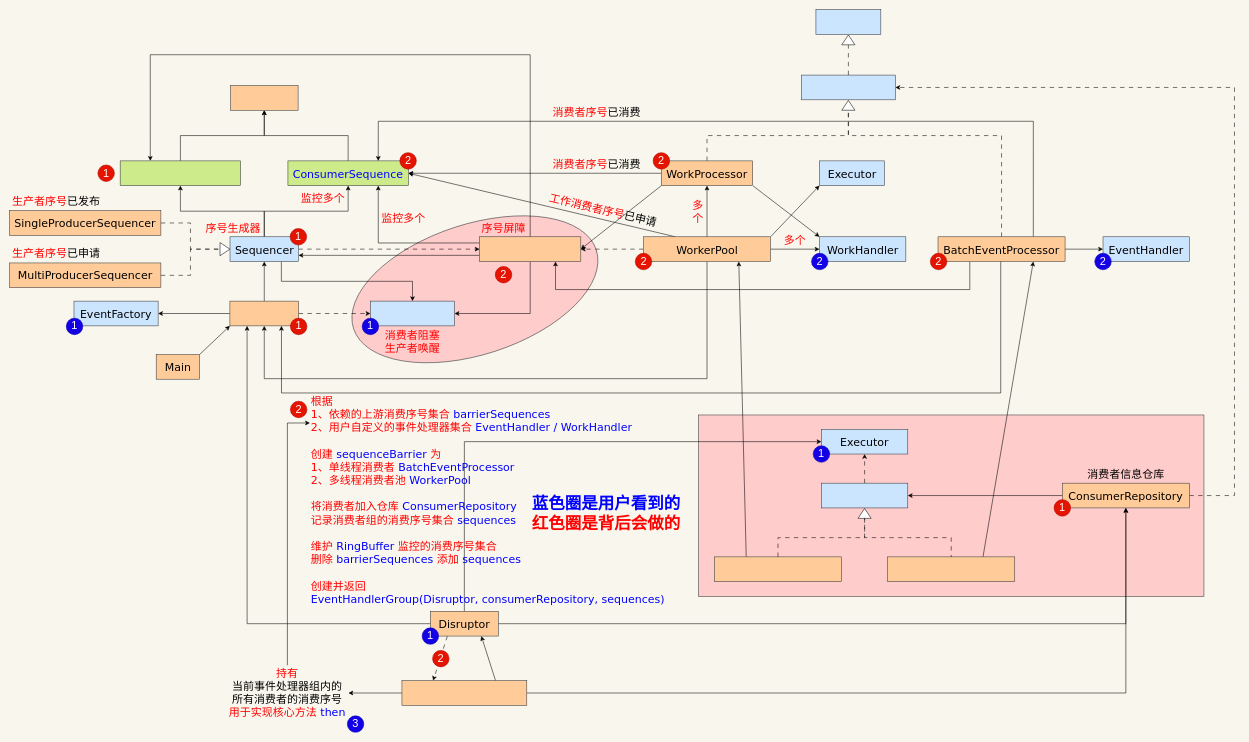
Some shapes in this 1249 by 742 pixel diagram are drawn without their labels. Each missing label, with the centre of its shape:
"ConsumerInfo" belongs at (864,495).
"EventHandlerGroup" belongs at (464,692).
"EventProcessor" belongs at (848,87).
"EventProcessorInfo" belongs at (951,569).
"ProducerSequence" belongs at (180,173).
"RingBuffer" belongs at (264,313).
"Runnable" belongs at (848,21).
"Sequence" belongs at (264,97).
"SequenceBarrier" belongs at (530,249).
"WaitStrategy" belongs at (412,313).
"WorkerPoolInfo" belongs at (778,569).
